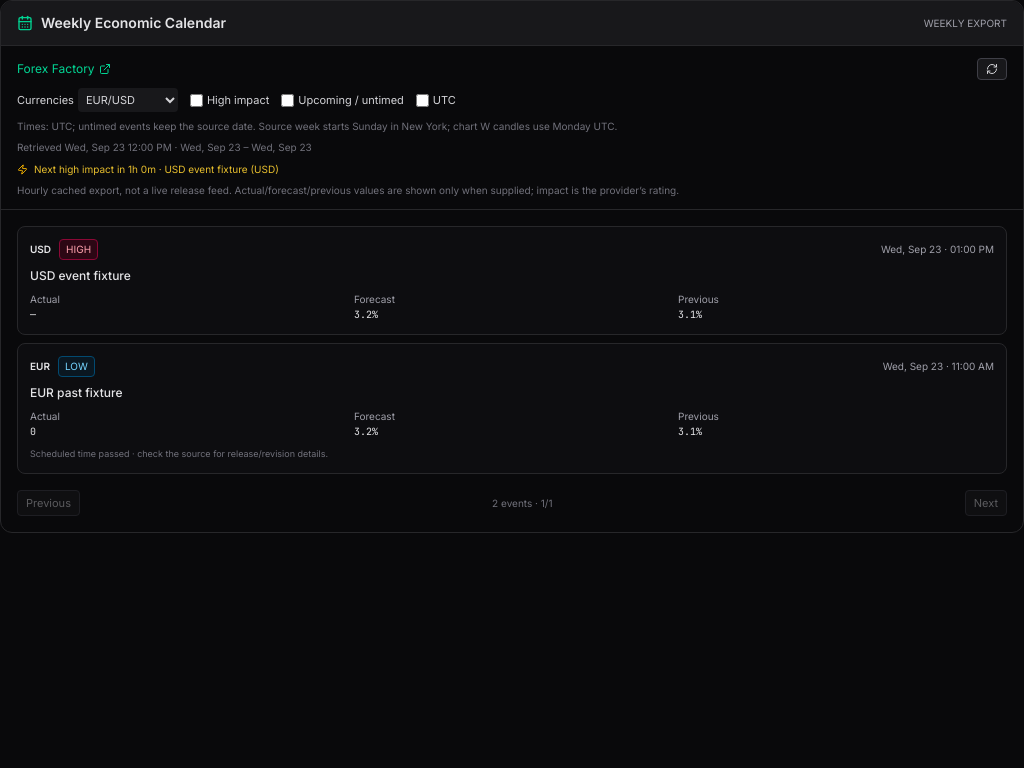
default Forex Factory fundamentals panel › filters currencies/impact/upcoming and switches the viewer zone without fetching per filter or symbol
Click the checkbox labelled "High impact" at (196,100), box [190,94,203,106]
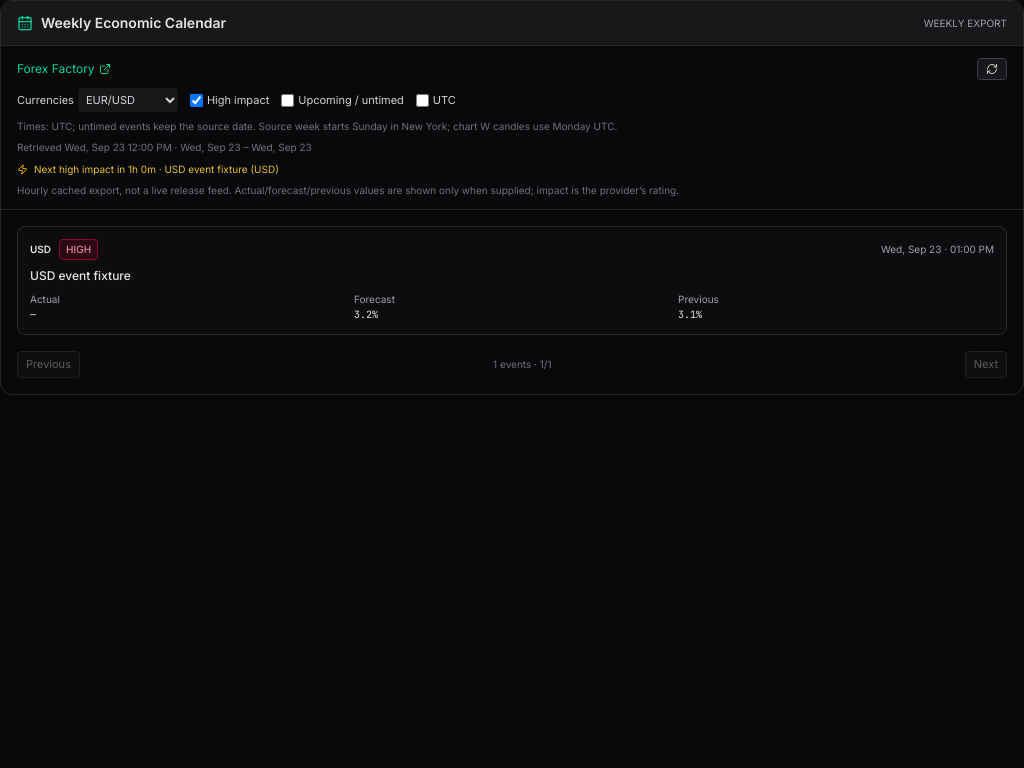
Click the checkbox labelled "High impact" at (196,100), box [190,94,203,106]
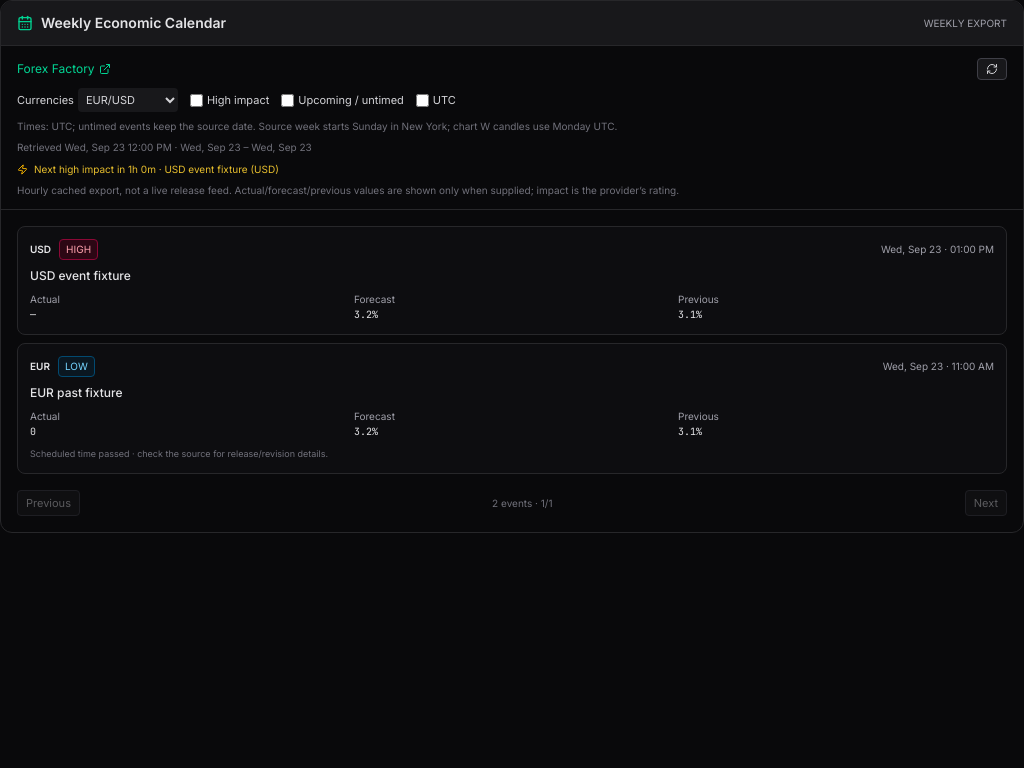
Click the checkbox labelled "Upcoming / untimed" at (288,100), box [281,94,294,106]
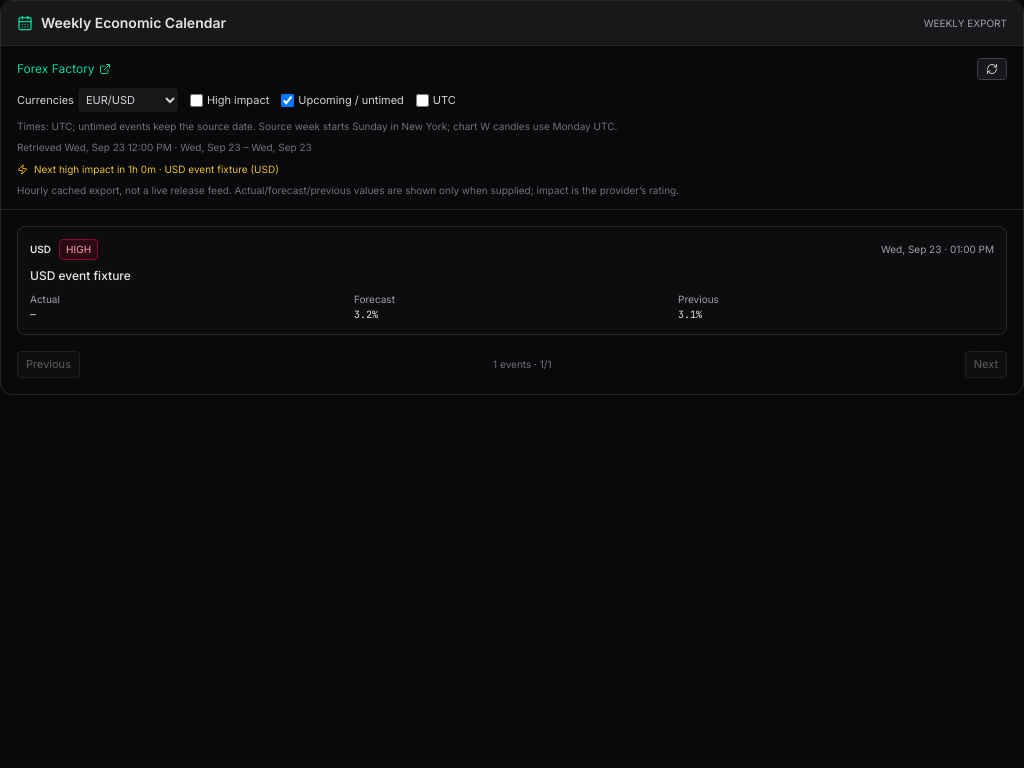
Check: the text "EUR past fixture" is gone
Click the checkbox labelled "UTC" at (422,100), box [416,94,429,106]
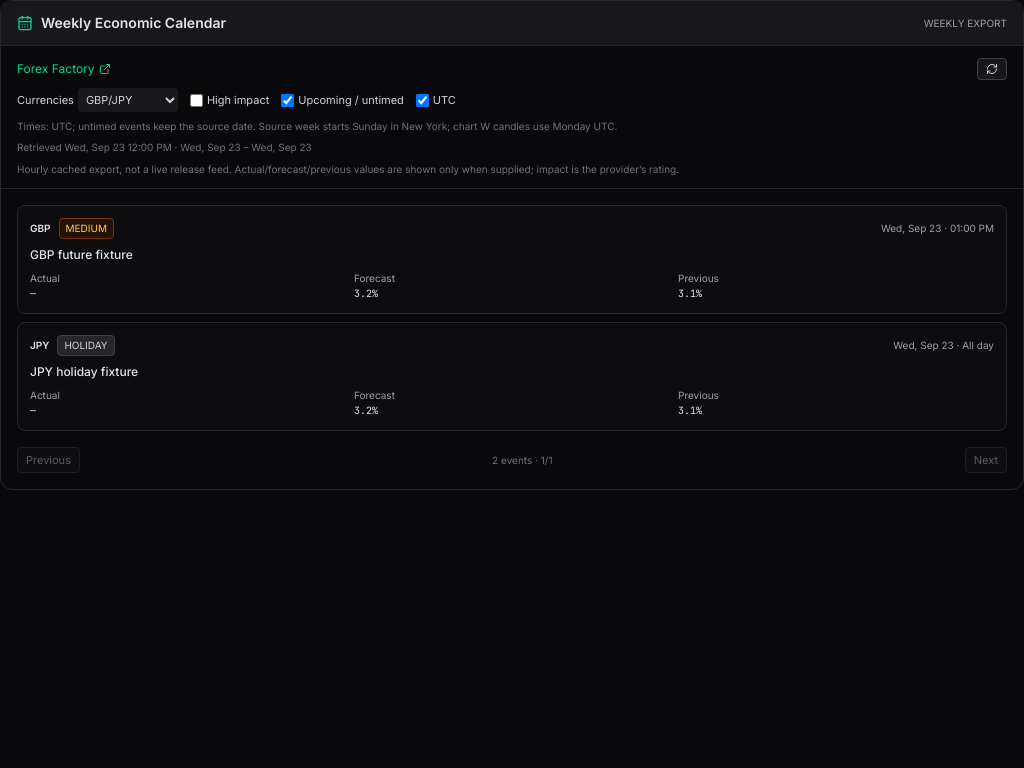
Check: the text "GBP future fixture" is shown, box [30,247,133,262]
Check: the text "JPY holiday fixture" is shown, box [30,364,138,379]
Check: the text "All day" is shown, box [962,339,994,351]
Select "All currencies" in the dropdown labelled "Currencies" at (128,100), box [78,88,178,112]
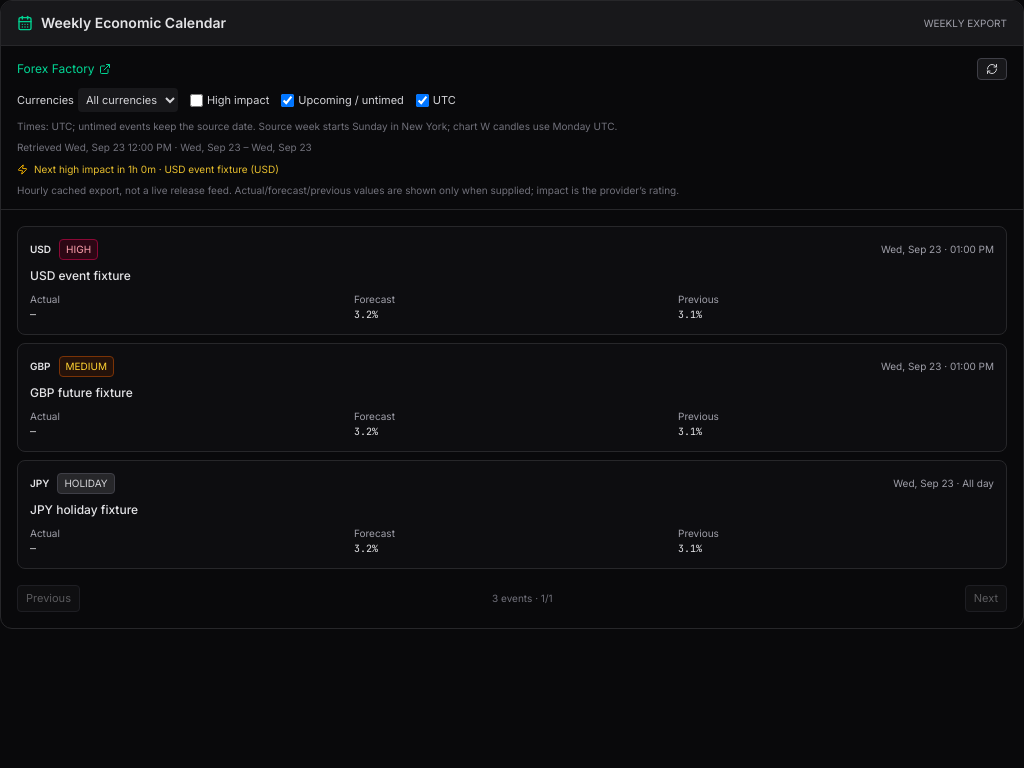
Check: the text "USD event fixture" is shown, box [164,163,248,175]
